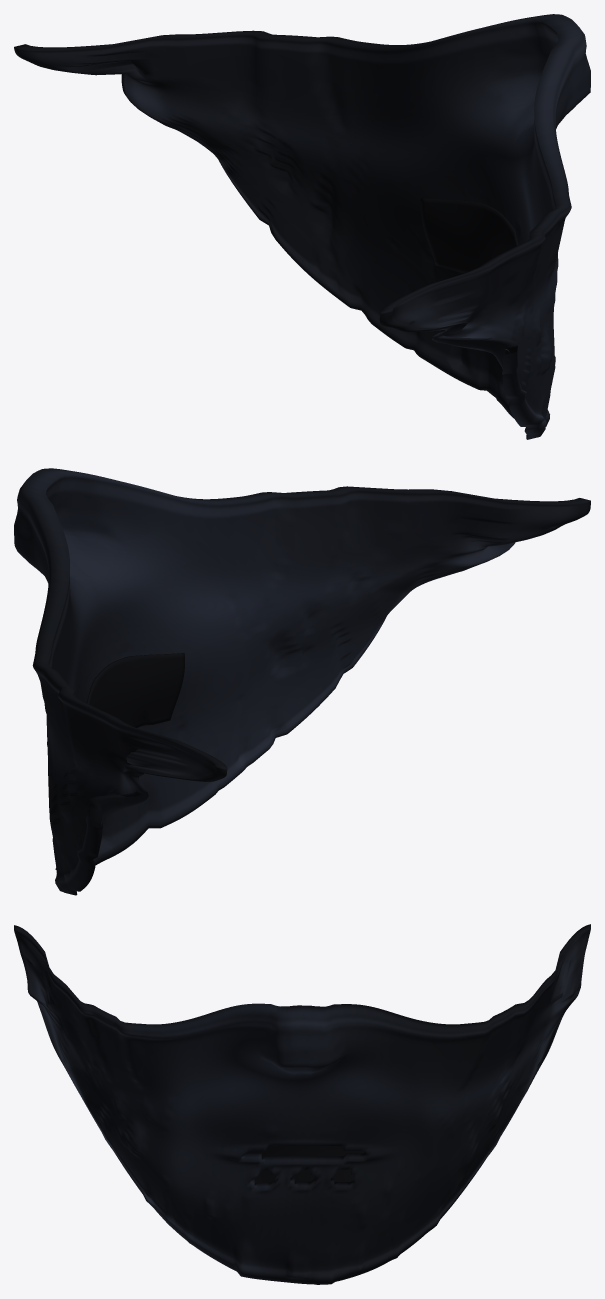
Rendered from side_kisada_portrait_mempo.glb.
The picture shows the model from 3 angles, top to bottom: view 1: azimuth 30°, elevation 25°; view 2: azimuth 150°, elevation 25°; view 3: azimuth 270°, elevation 25°; orthographic projection. The views are drawn at different scales.
Parts seen in each view (by area): view 1: Blackened iron; view 2: Blackened iron; view 3: Blackened iron.
Boxes of the visible parts, <box> form: Blackened iron: <box>14,14,590,439</box>; Blackened iron: <box>14,468,590,895</box>; Blackened iron: <box>14,924,590,1284</box>.
Size of the model in its own units: 6.98 by 6.39 by 11.44.
Materials: 1 (1 with a texture image).
